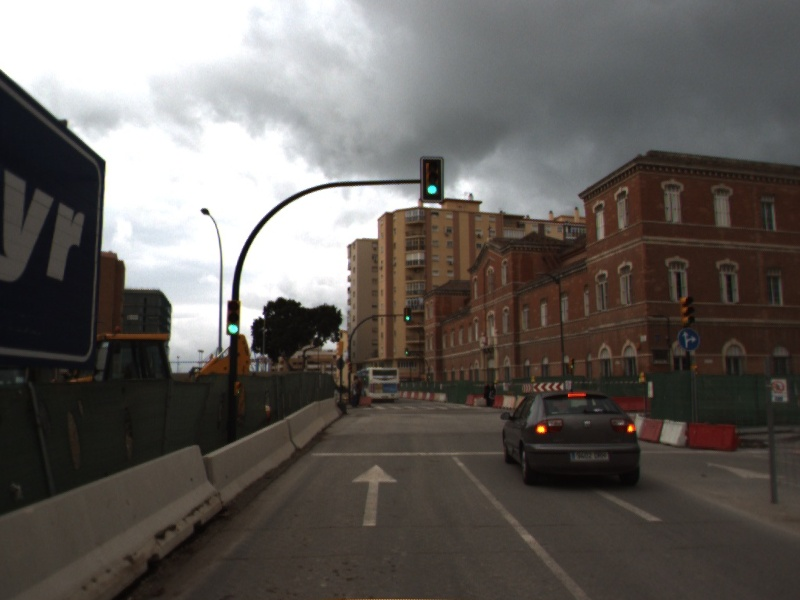STRAIGHT: (349, 461, 400, 528)
